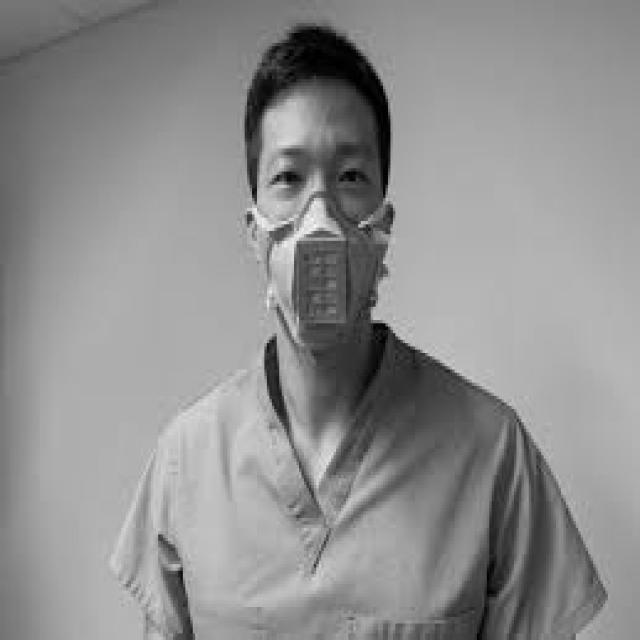with_mask: (250, 188, 390, 353)
